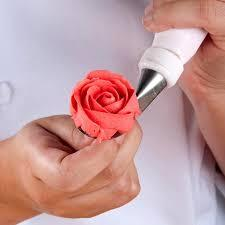Rose: (66, 66, 142, 138)
